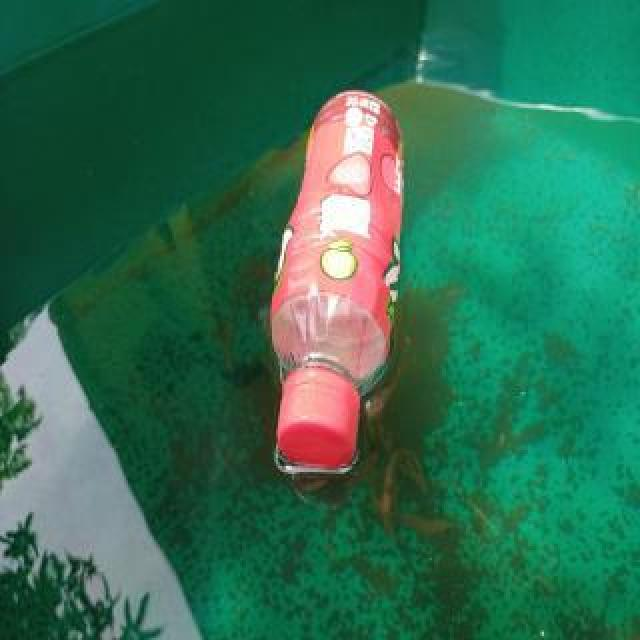bottle: (271, 85, 405, 471)
